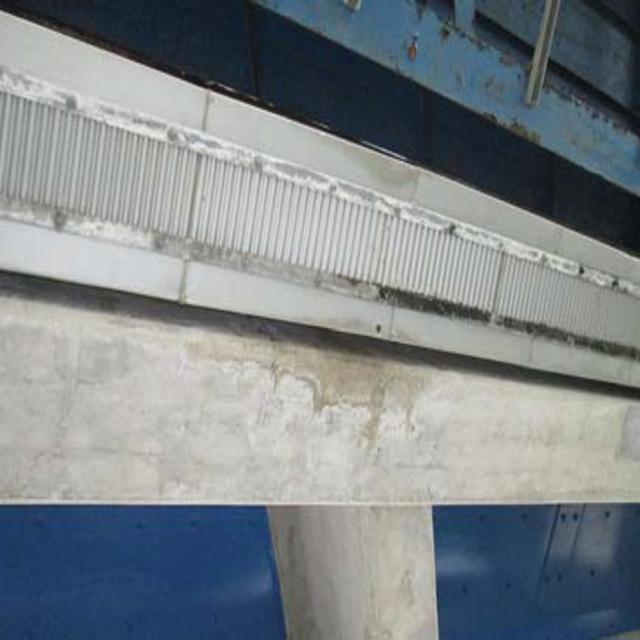spalling: (217, 326, 464, 441)
